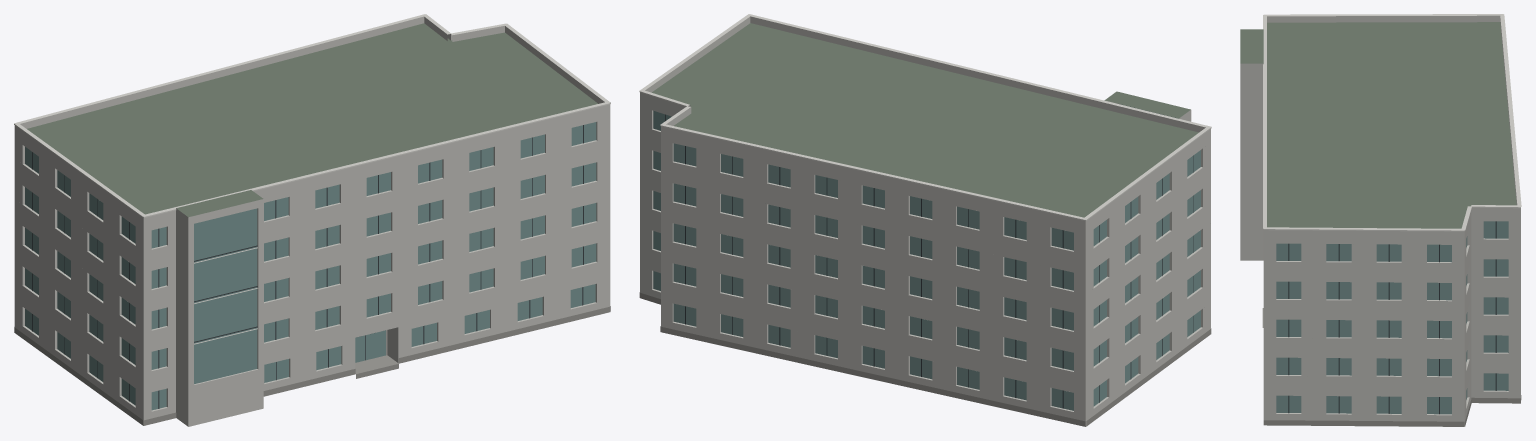
3 renders of one model, left to right at view 1: azimuth 30°, elevation 25°; view 2: azimuth 150°, elevation 25°; view 3: azimuth 270°, elevation 25°, orthographic. The views are drawn at different scales.
Parts seen in each view (by area): view 1: artB__wall, artB__roof, artB__glass, artB__parapet, artB__trim, artB__base, artB__frame; view 2: artB__wall, artB__roof, artB__glass, artB__parapet, artB__trim, artB__base, artB__frame; view 3: artB__roof, artB__wall, artB__glass, artB__trim, artB__parapet, artB__base, artB__frame.
Boxes of the visible parts, x1,y1,x2,y2 form: artB__wall: (14,109,610,426); artB__roof: (27,23,597,425); artB__glass: (25,122,596,410); artB__parapet: (14,16,610,223); artB__trim: (14,14,610,217); artB__base: (14,306,610,425); artB__frame: (32,125,583,408); artB__wall: (640,97,1210,426); artB__roof: (652,23,1198,217); artB__glass: (653,104,1200,410); artB__parapet: (640,16,1210,226); artB__trim: (639,14,1211,220); artB__base: (639,292,1211,426); artB__frame: (665,114,1193,408); artB__roof: (1240,22,1516,426); artB__wall: (1240,63,1520,425); artB__glass: (1276,221,1508,414); artB__trim: (1263,14,1521,231); artB__parapet: (1263,15,1520,236); artB__base: (1262,308,1521,426); artB__frame: (1288,221,1496,414).
Bounding box in the file's own units: 43.97 × 19.05 × 24.14.
